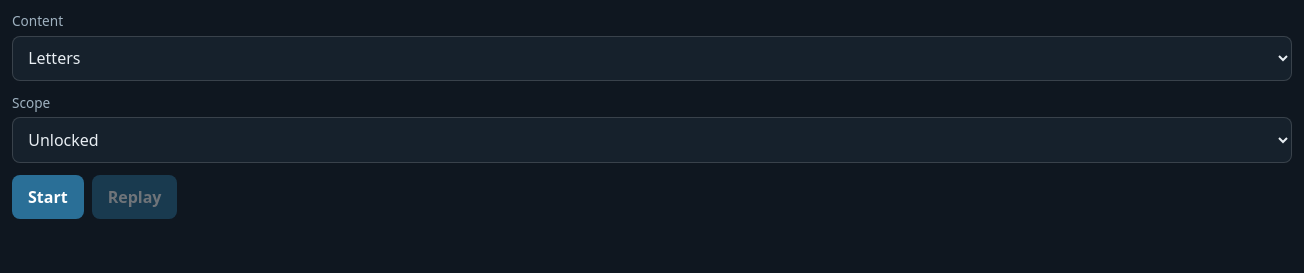
Test: CopyPractice persistence › shows a safe unavailable state when no unlocked words are eligible
Select "Common CW words" in the dropdown labelled "Content" at {"x": 652, "y": 58}, box [12,36,1292,81]
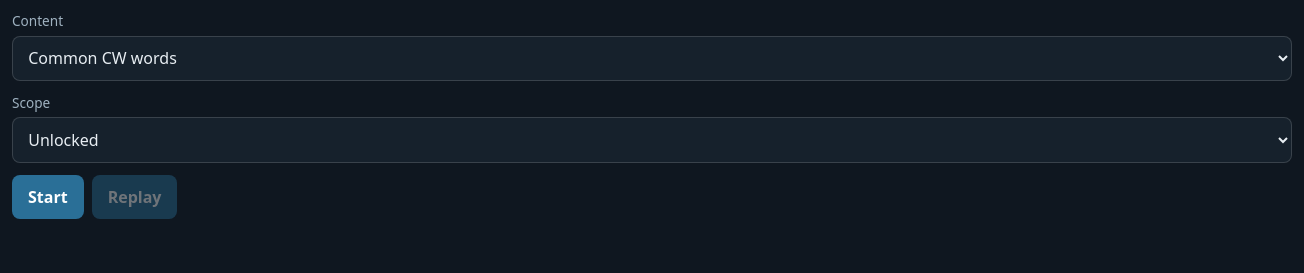
Click the button "Start" at {"x": 48, "y": 197}, box [12,175,84,219]
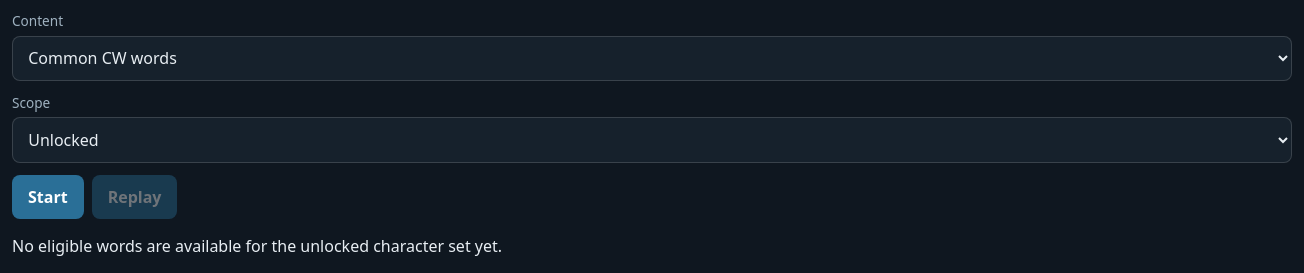
Now the message reads "No eligible words are available for the unlocked character set yet.", box [12,235,502,257]
